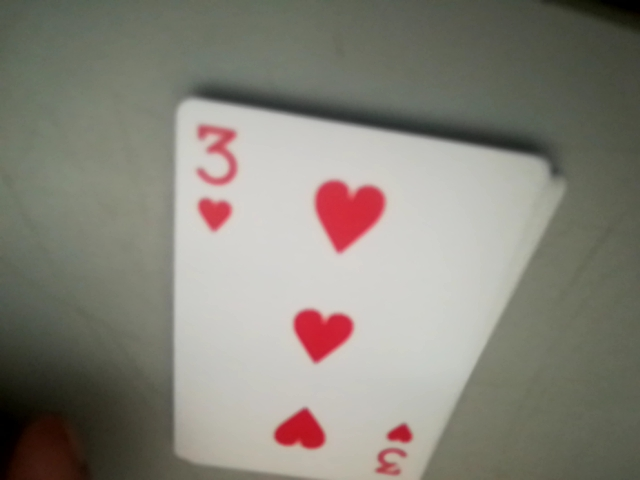hx 3: (176, 104, 246, 237)
